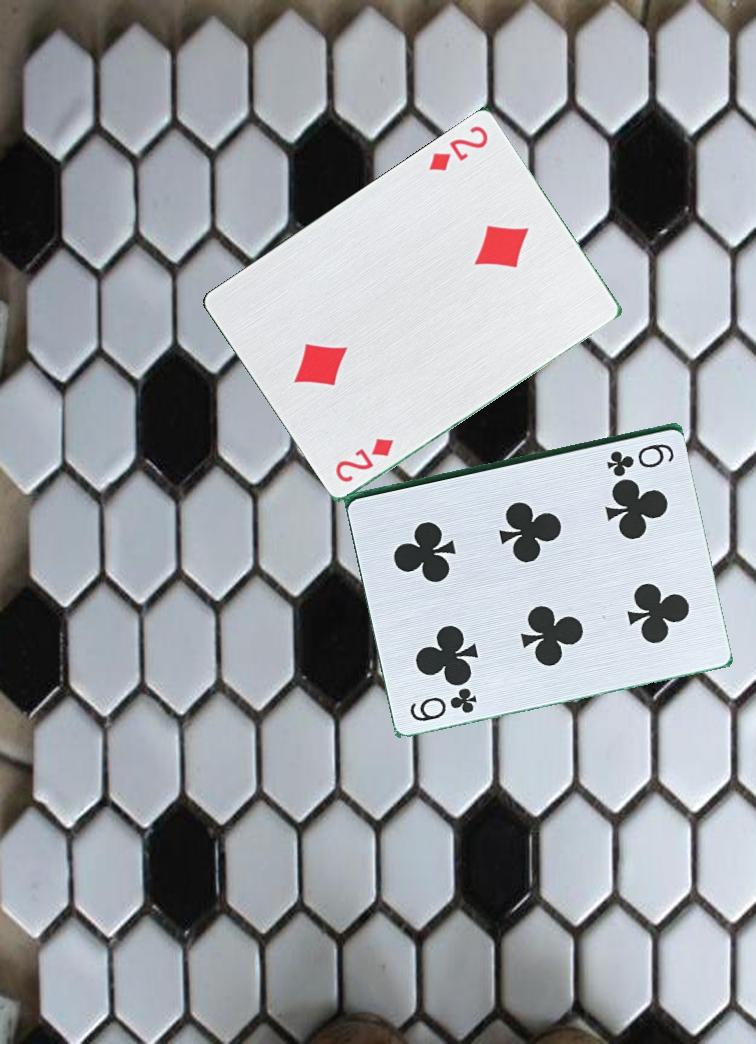2d: (322, 435, 397, 492), (425, 122, 491, 175)
6c: (395, 682, 481, 724), (604, 439, 678, 473)
